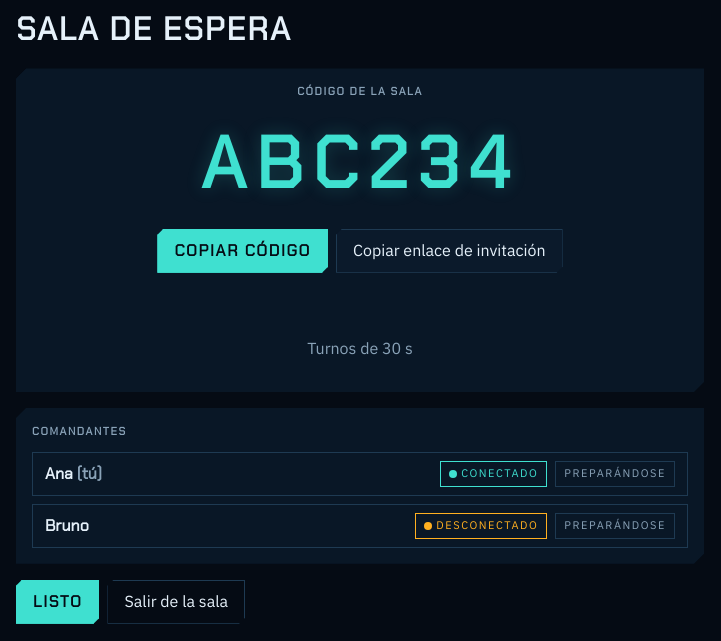
Test: WaitingRoom › copies the code with one click and confirms it
This screenshot has width=721, height=641.
Click the button "Copiar código": (243, 251) [157, 229, 328, 273]
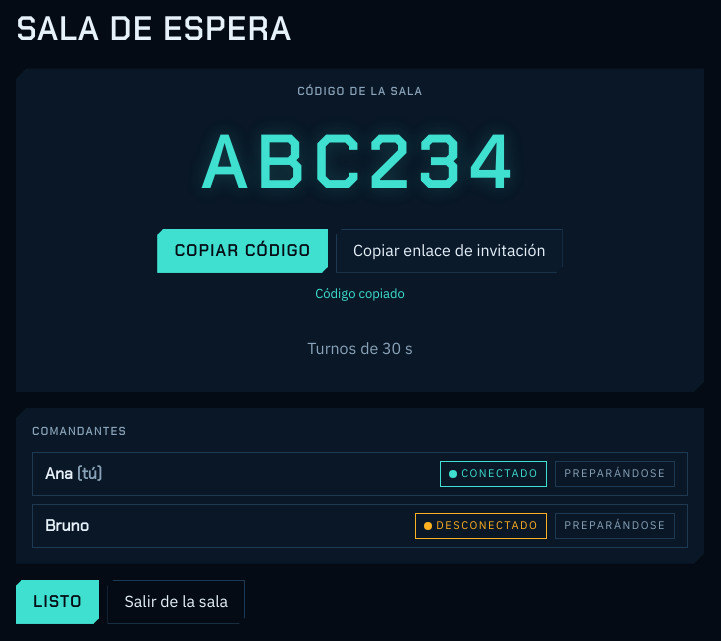
Expected: the message reads "Código copiado", [315, 285, 405, 302]
Click the button "Copiar enlace de invitación": (449, 251) [336, 229, 563, 273]
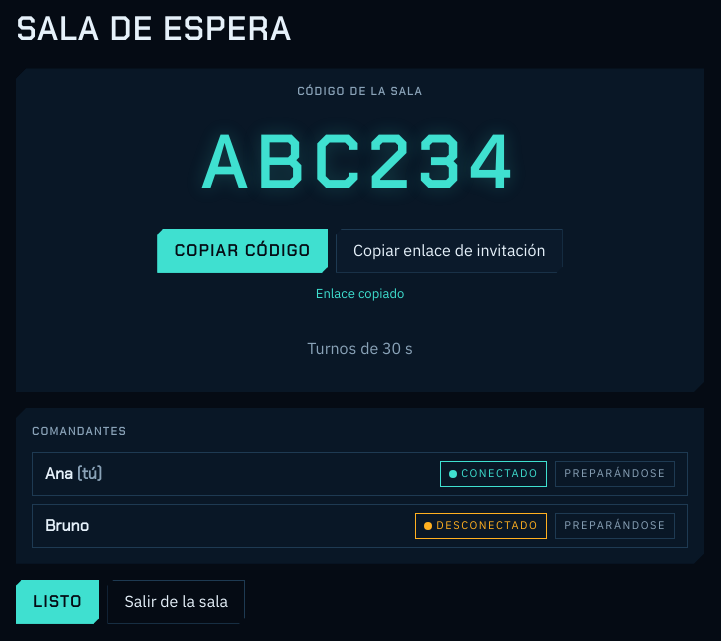
Expected: the message reads "Enlace copiado", [316, 285, 404, 302]
